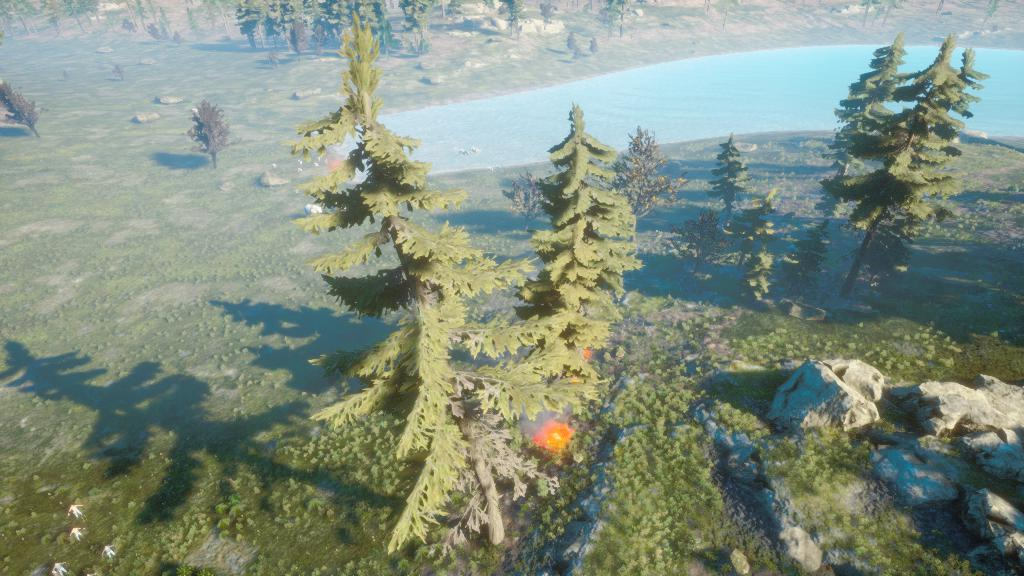Fire: (525, 414, 583, 461)
human: (100, 533, 133, 573), (55, 493, 89, 522), (59, 519, 89, 547), (43, 558, 74, 575)
smoke: (518, 413, 546, 432)
